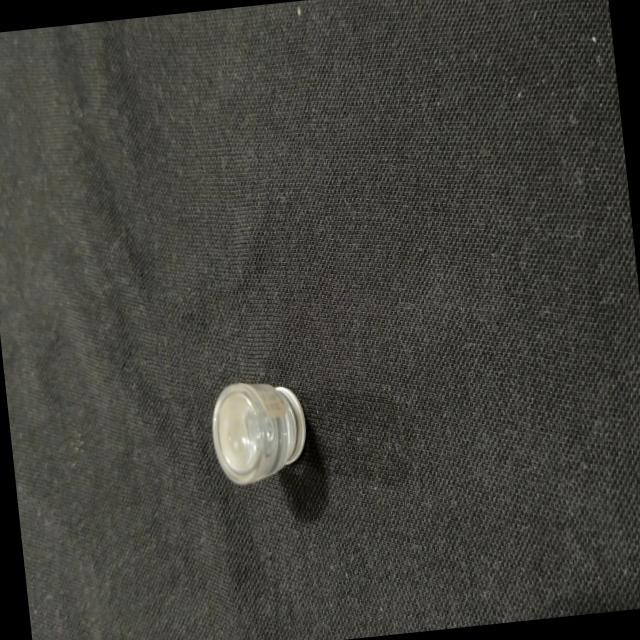fentanl_citrat: (209, 378, 309, 485)
